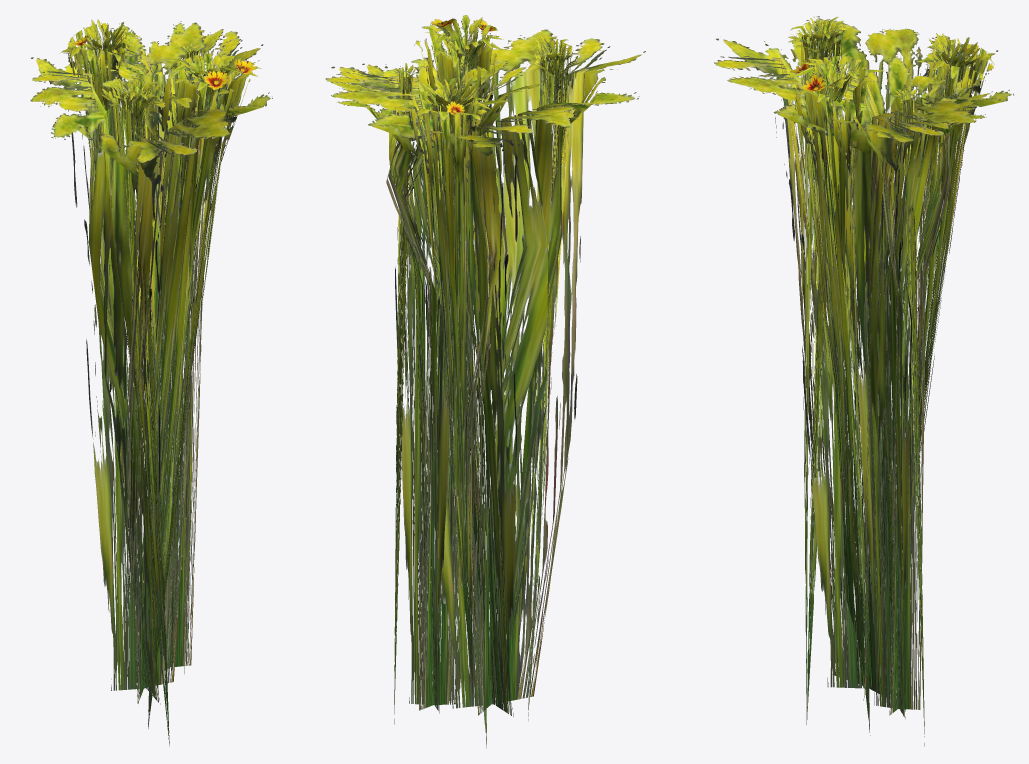
The model's file is waterveg20m.DAE.
3 views of the same model, side by side, from view 1: azimuth 30°, elevation 25°; view 2: azimuth 150°, elevation 25°; view 3: azimuth 270°, elevation 25° (orthographic). The views are drawn at different scales.
Visible parts, largest first — view 1: Object07-Pivot, Object09-Pivot, Object12-Pivot, Object11-Pivot, Object04-Pivot, Object13-Pivot, Object08-Pivot; view 2: Object07-Pivot, Object11-Pivot, Object12-Pivot, Object09-Pivot, Object10-Pivot, Object04-Pivot, Object08-Pivot, Object13-Pivot; view 3: Object07-Pivot, Object09-Pivot, Object11-Pivot, Object12-Pivot, Object10-Pivot, Object04-Pivot, Object08-Pivot, Object13-Pivot.
Boxes of the visible parts, box(x1,y1,x2,y2) form: Object07-Pivot: box(30, 21, 272, 704); Object09-Pivot: box(148, 56, 260, 728); Object12-Pivot: box(100, 75, 169, 746); Object11-Pivot: box(59, 23, 140, 631); Object04-Pivot: box(171, 53, 244, 109); Object13-Pivot: box(108, 77, 163, 141); Object08-Pivot: box(83, 19, 125, 88); Object07-Pivot: box(325, 28, 645, 716); Object11-Pivot: box(395, 89, 491, 696); Object12-Pivot: box(528, 42, 584, 721); Object09-Pivot: box(414, 24, 503, 748); Object10-Pivot: box(392, 63, 415, 724); Object04-Pivot: box(425, 15, 499, 87); Object08-Pivot: box(419, 78, 477, 236); Object13-Pivot: box(530, 34, 572, 125); Object07-Pivot: box(714, 16, 1013, 718); Object09-Pivot: box(790, 59, 886, 735); Object11-Pivot: box(901, 38, 994, 567); Object12-Pivot: box(788, 21, 845, 724); Object10-Pivot: box(894, 85, 924, 746); Object04-Pivot: box(794, 55, 865, 129); Object08-Pivot: box(929, 33, 979, 263); Object13-Pivot: box(791, 17, 846, 77).
Bounding box in the file's own units: 44.39 × 106 × 44.97.
Materials: 1 (1 with a texture image).
